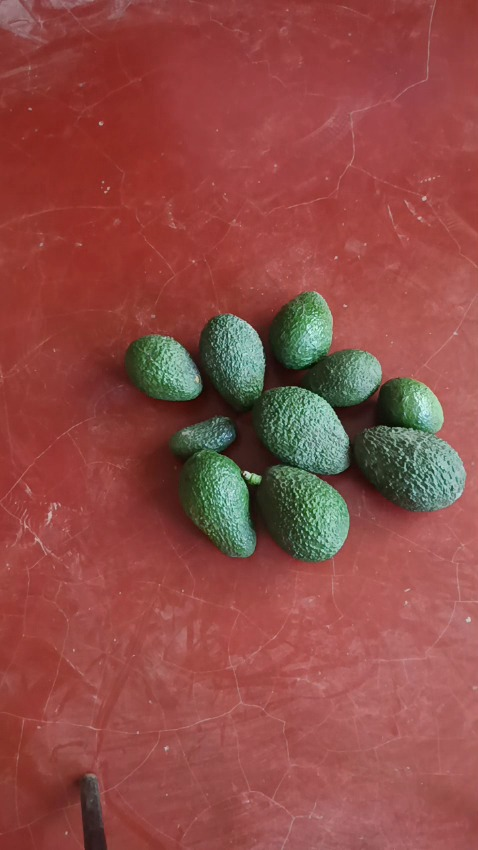Primera: (352, 426, 465, 510), (255, 464, 350, 559), (251, 385, 350, 475), (179, 449, 258, 556), (198, 313, 266, 409)
Segunda: (124, 334, 203, 401), (268, 292, 333, 370)
Tercera: (300, 350, 383, 408), (375, 377, 444, 433), (170, 416, 238, 461)
